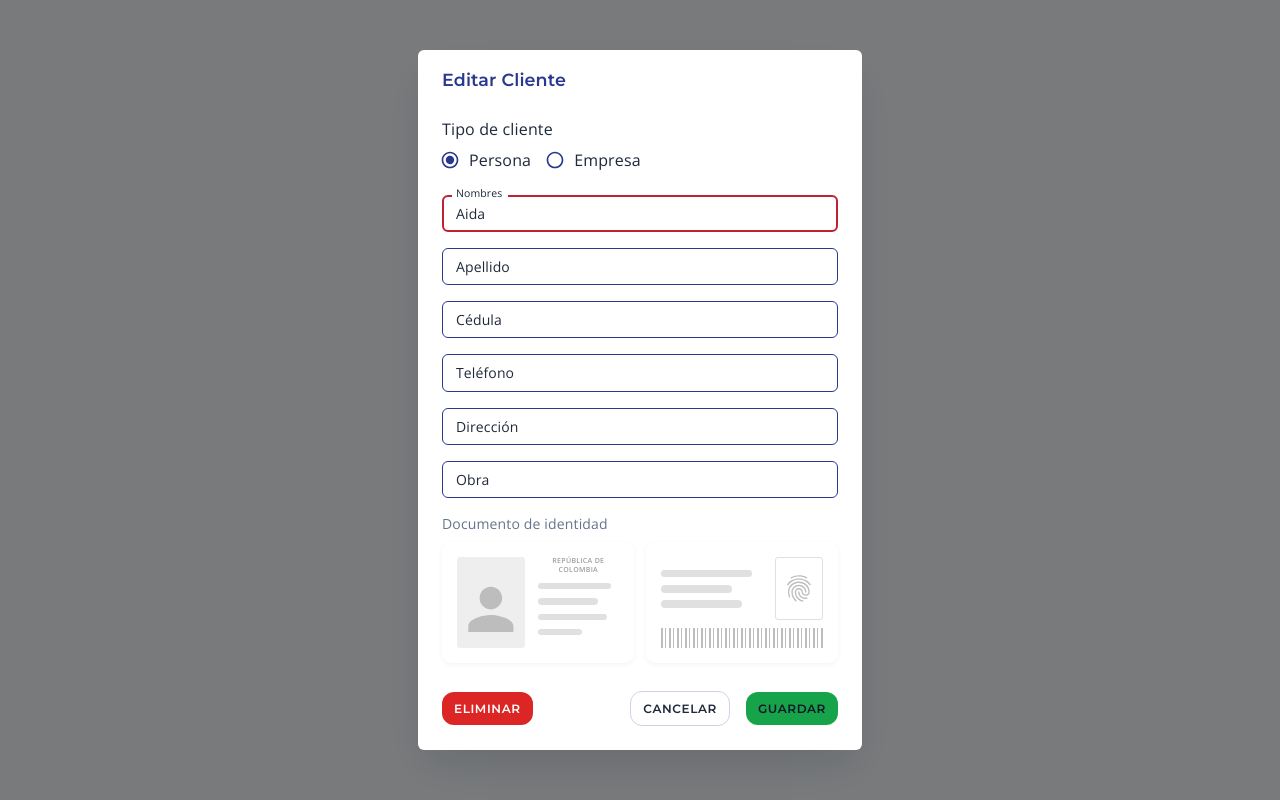
it: ClienteFormDialog — eliminar › si el cliente no tiene facturas, lo dice
Click the button "Eliminar": (487, 708) [442,692,533,725]
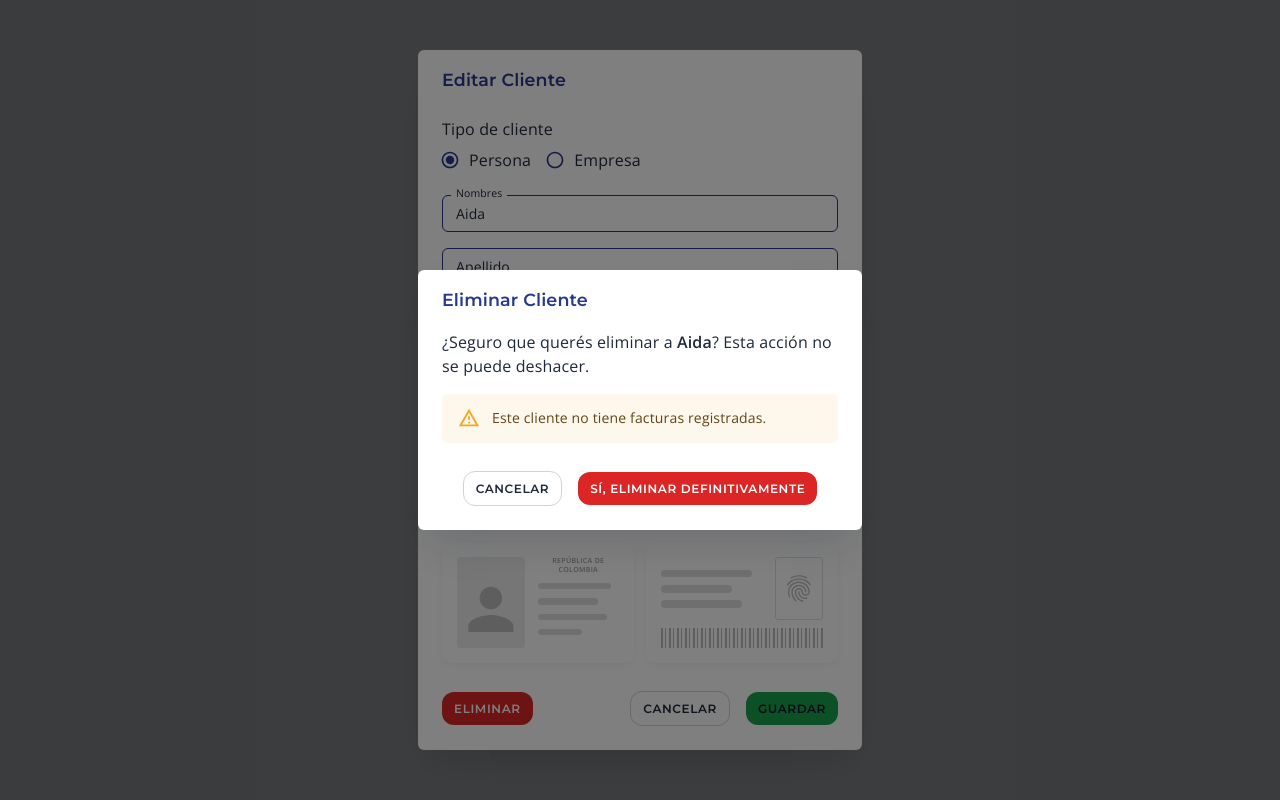
Expected: the text "Este cliente no tiene facturas registradas." is shown, [492,408,766,428]
